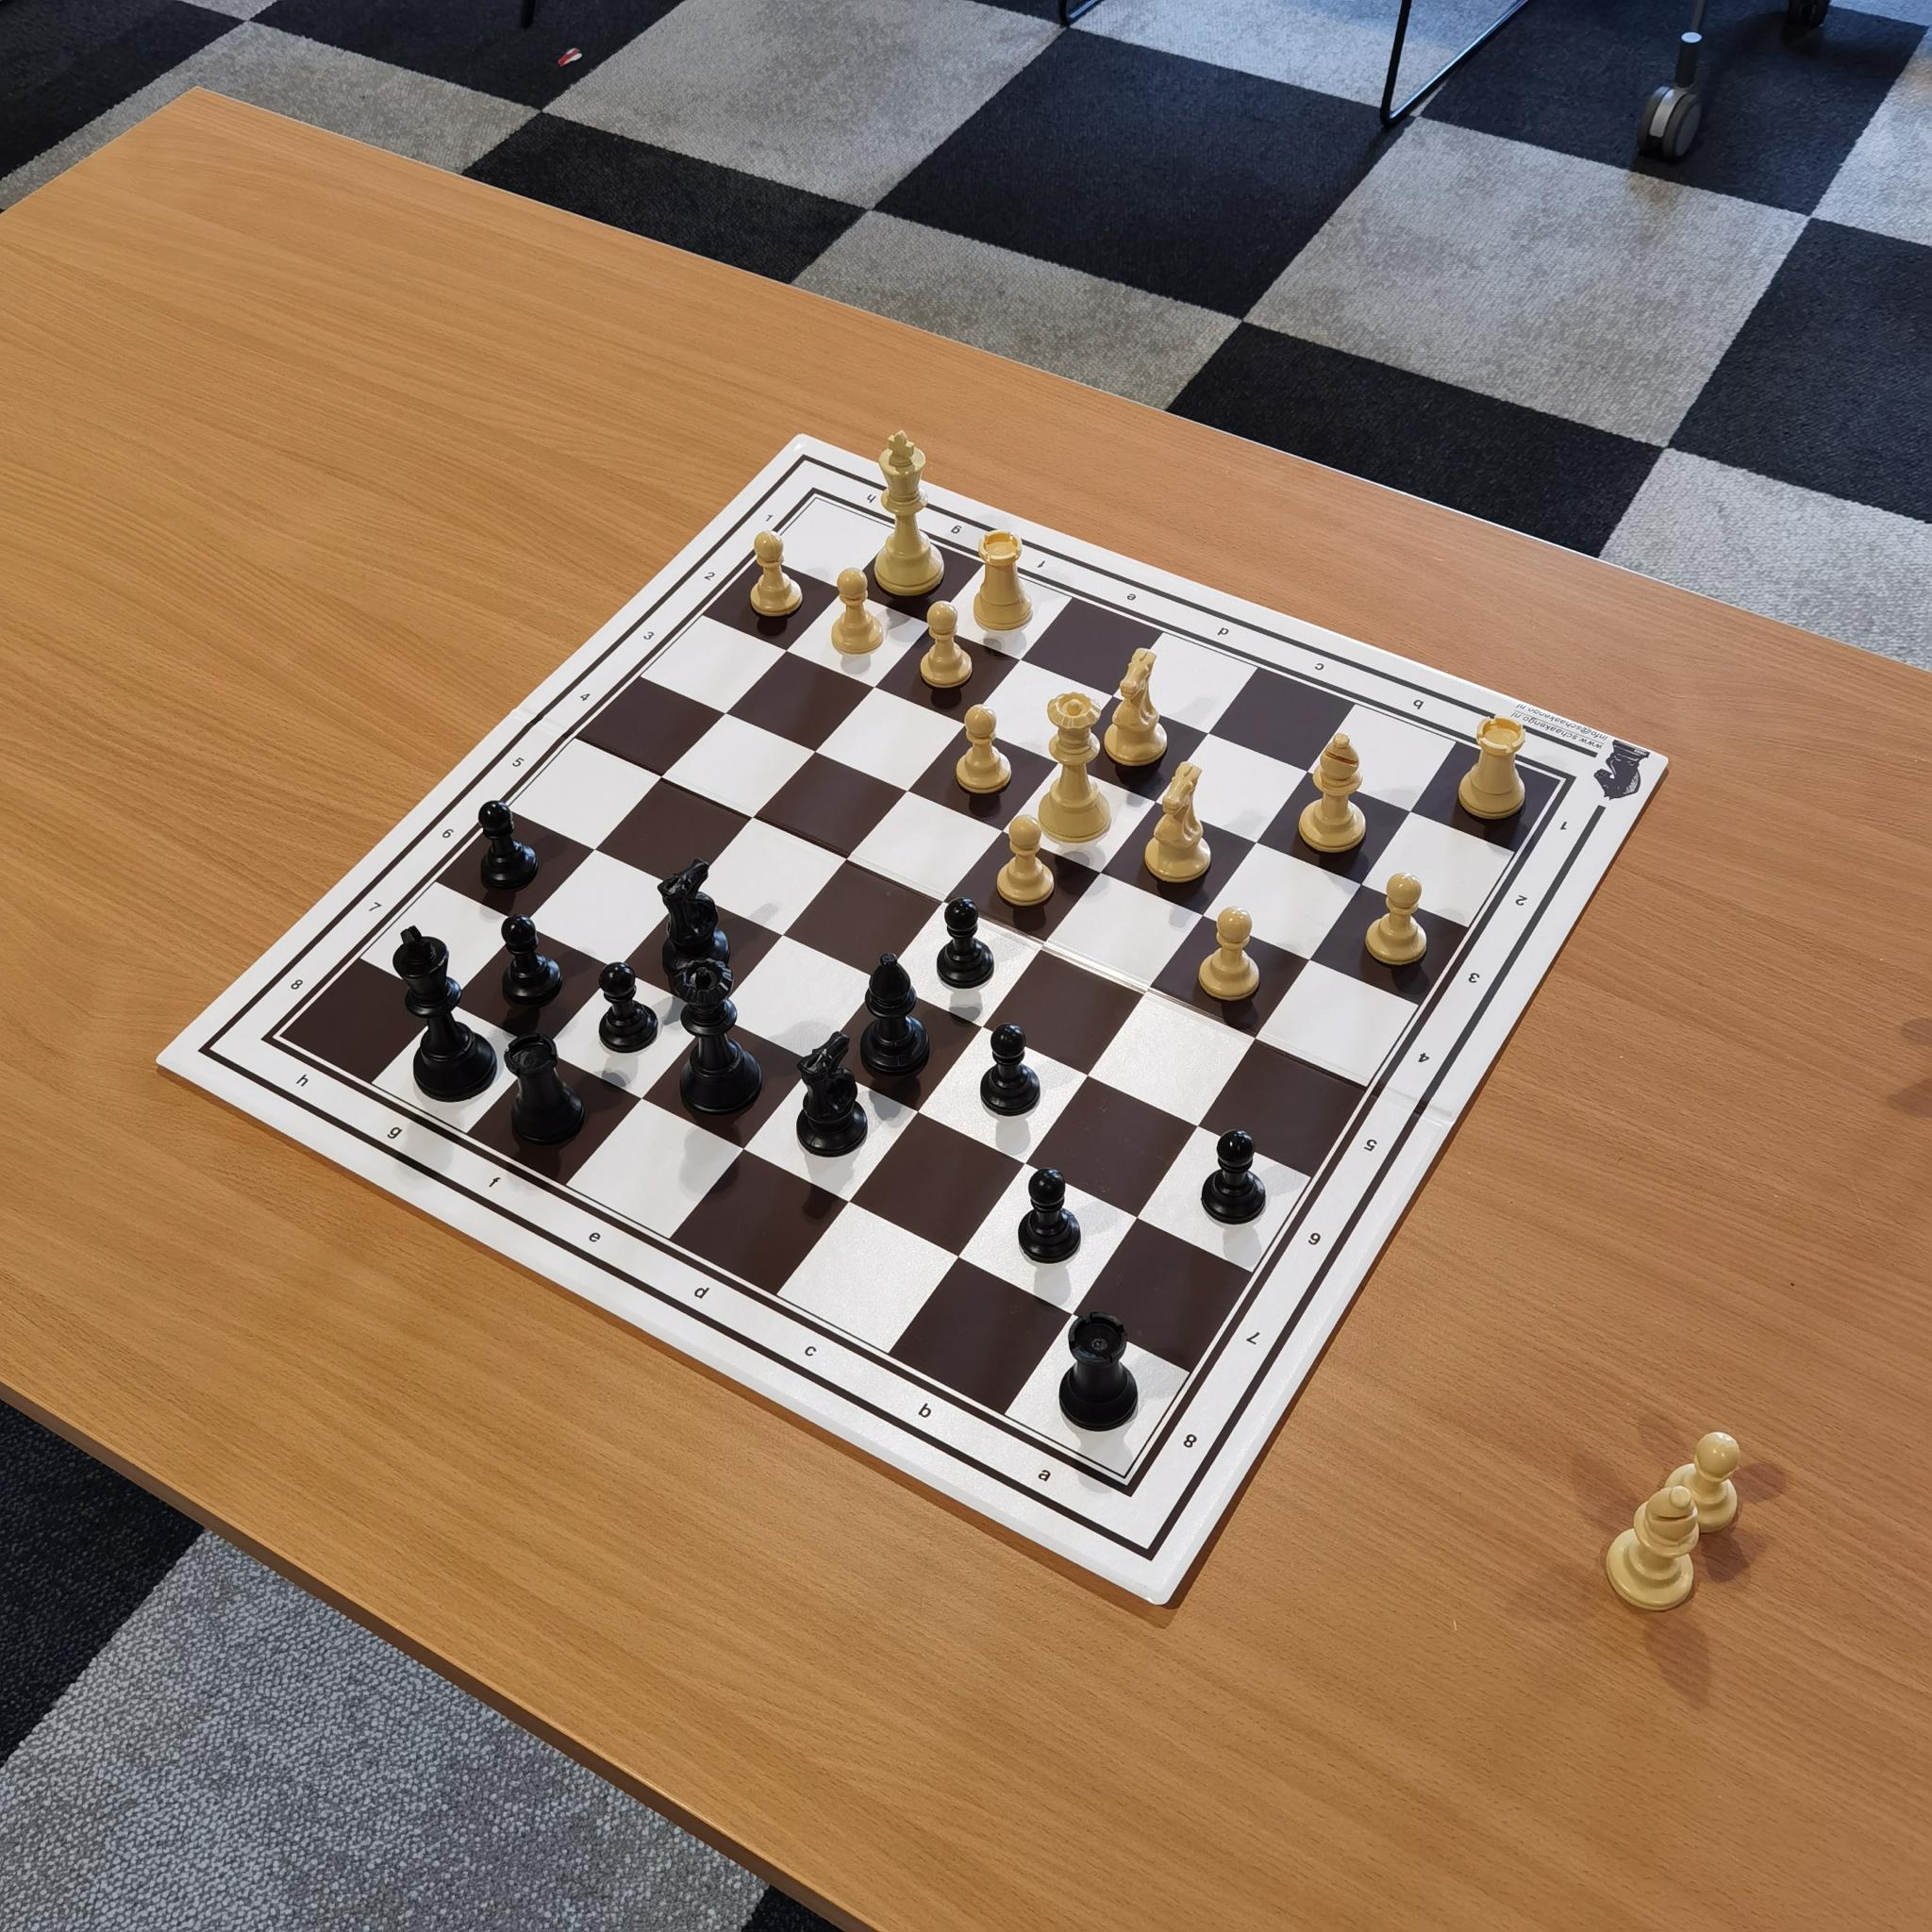corners: (1101, 1463, 1152, 1514), (248, 1022, 300, 1060), (1547, 764, 1594, 802), (797, 485, 839, 521)
eight: (272, 961, 323, 1008), (1172, 1417, 1214, 1457)
one: (1550, 805, 1585, 847), (757, 508, 788, 533)
